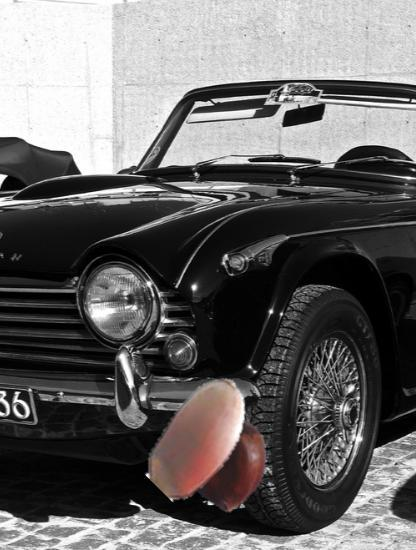Chestnut: (177, 416, 275, 514)
Hazelnut: (135, 371, 267, 503)
